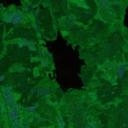alloviz: (42, 28, 86, 92), (1, 1, 24, 8), (121, 5, 128, 27)
